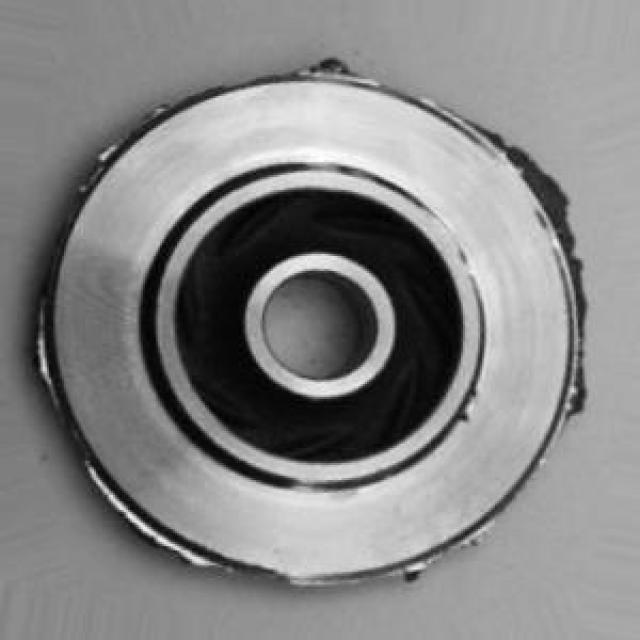Defect: (514, 140, 562, 206), (91, 462, 134, 530), (28, 321, 55, 390), (302, 51, 356, 83)
